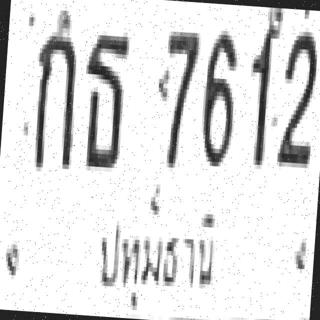A01: (30, 29, 80, 171)
A24: (76, 25, 132, 171)
N01: (242, 25, 276, 170)
N02: (274, 26, 320, 171)
N06: (197, 24, 239, 162)
N07: (154, 24, 198, 166)
P38: (91, 202, 220, 318)
